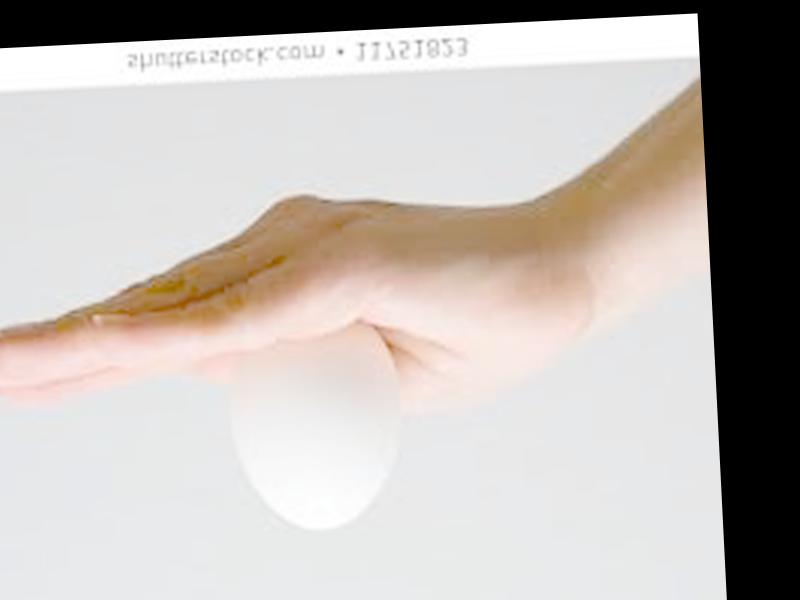Eggs: (227, 319, 397, 532)
